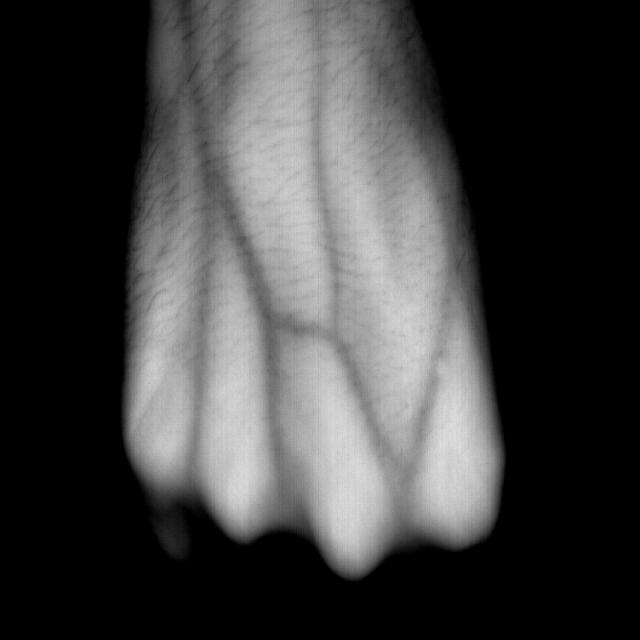Vein: (194, 94, 375, 422)
